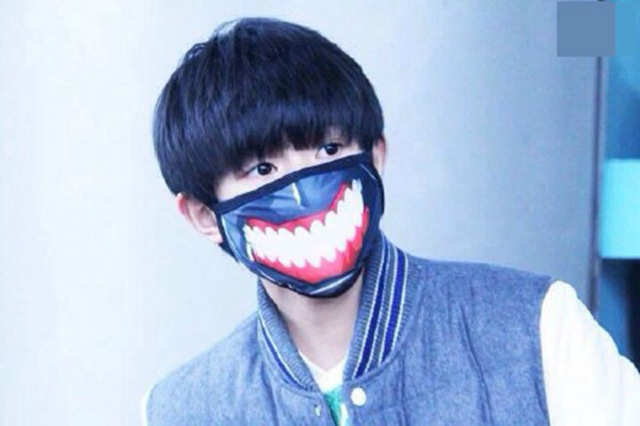face_mask: (223, 114, 366, 295)
